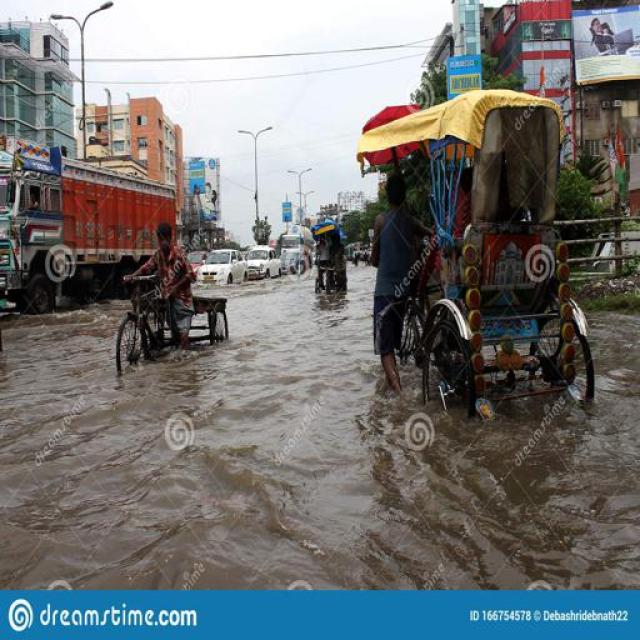puddle: (7, 367, 443, 599), (331, 415, 640, 604), (242, 285, 332, 389)
